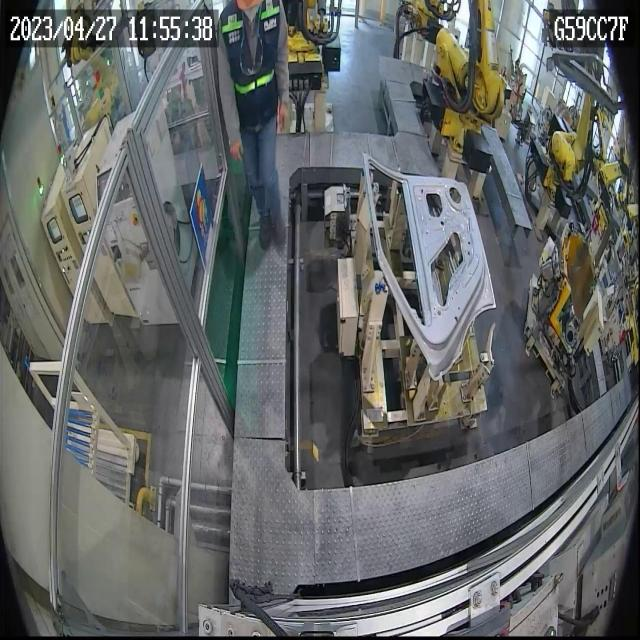Person: (216, 0, 290, 250)
